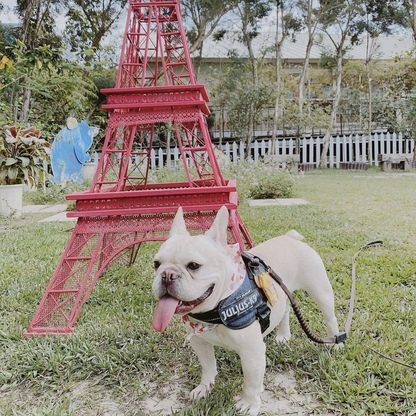bulldog: (146, 203, 346, 416)
